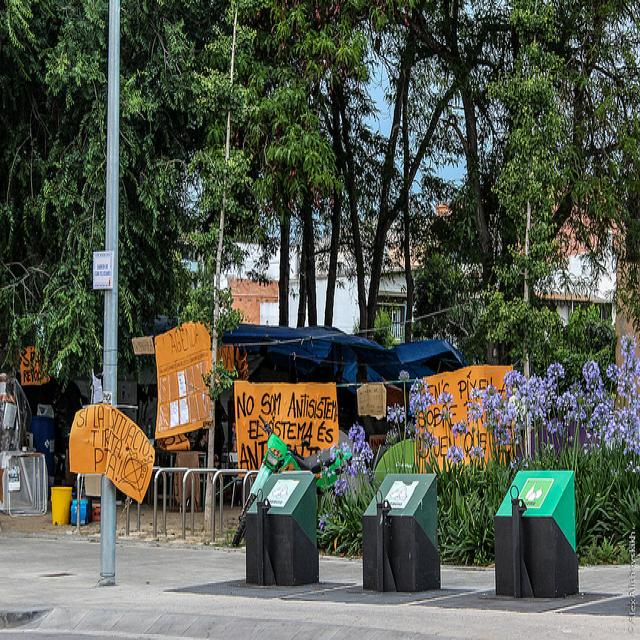motor: (232, 416, 331, 548)
